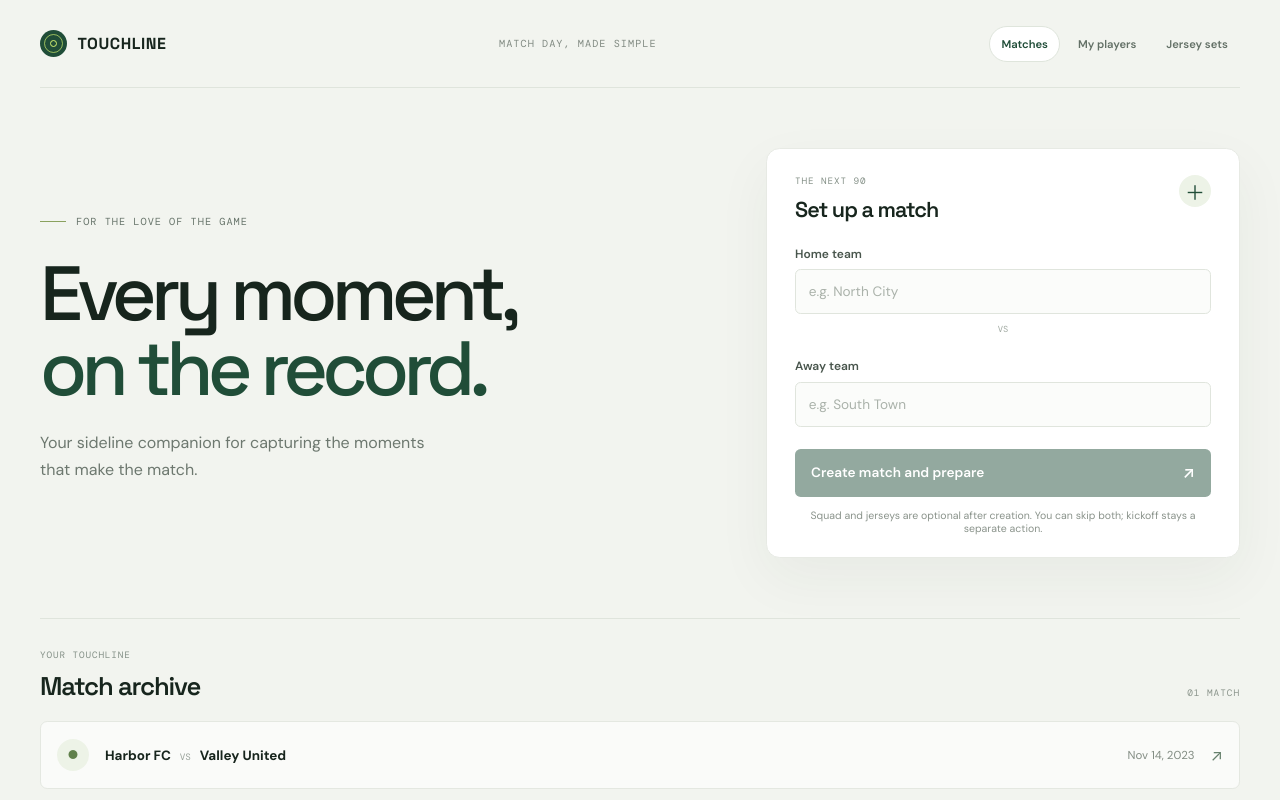
Test case: App › opens a literal IndexedDB record and writes edits back with its match fields intact
Click the button with aria-label "Open Harbor FC versus Valley United" at [73, 755], box [40,722,1240,789]
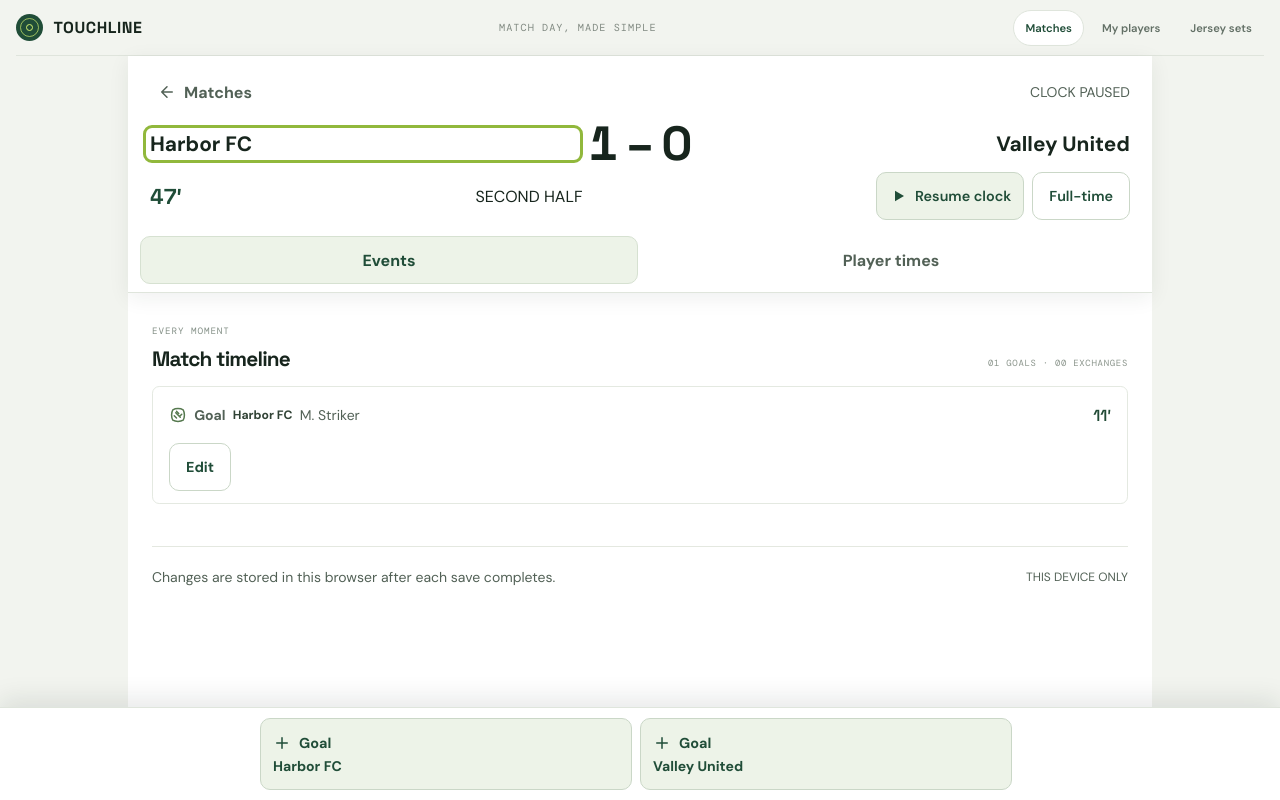
Expected: the 1st text "Harbor FC" is shown, [150,130,252,157]
Expected: the text with test id "home-score" reads "1", [588,113,618,174]
Expected: the text with test id "match-minute" reads "47′", [150,182,182,210]
Click the button "Edit" at [200, 467], box [169,443,231,491]
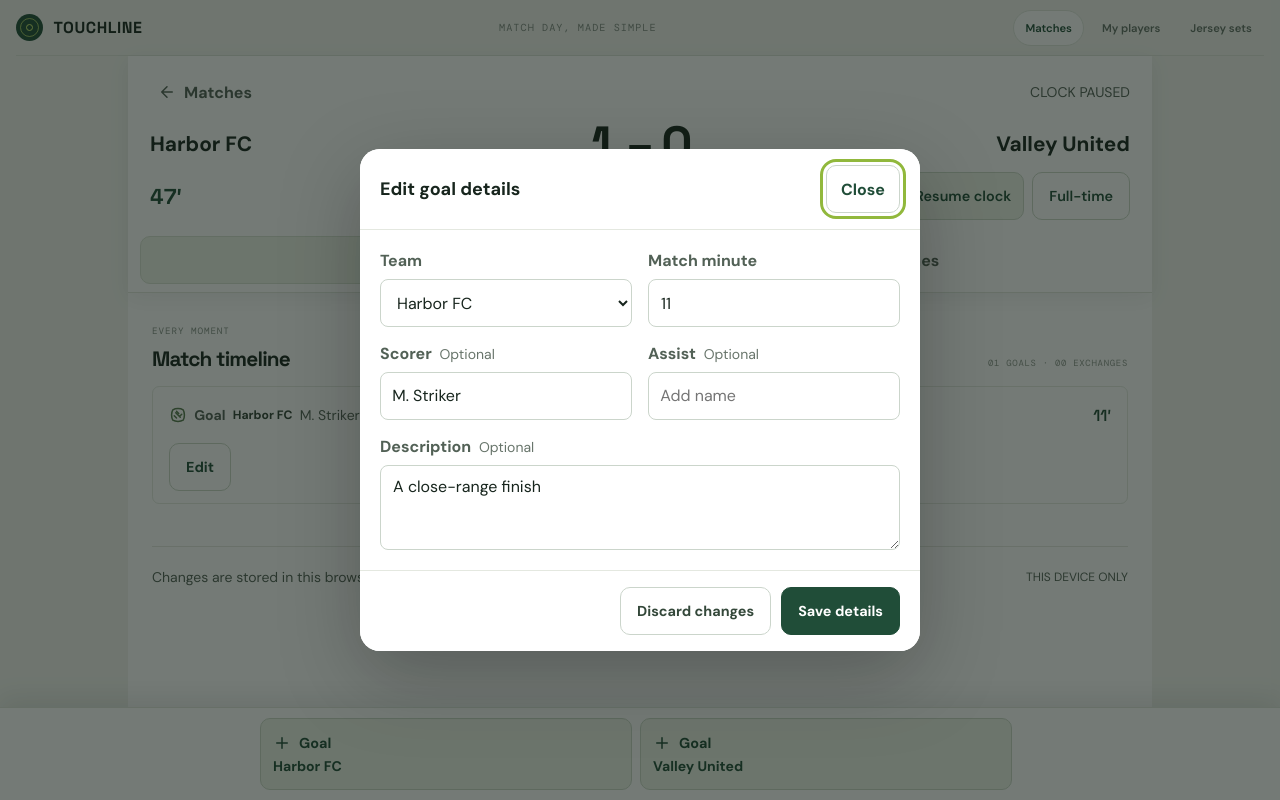
Expected: the field named "scorer" holds "M. Striker", [380,372,632,420]
Type "J. Midfielder" into the field labelled "Assist Optional" at [774, 396], box [648,372,900,420]
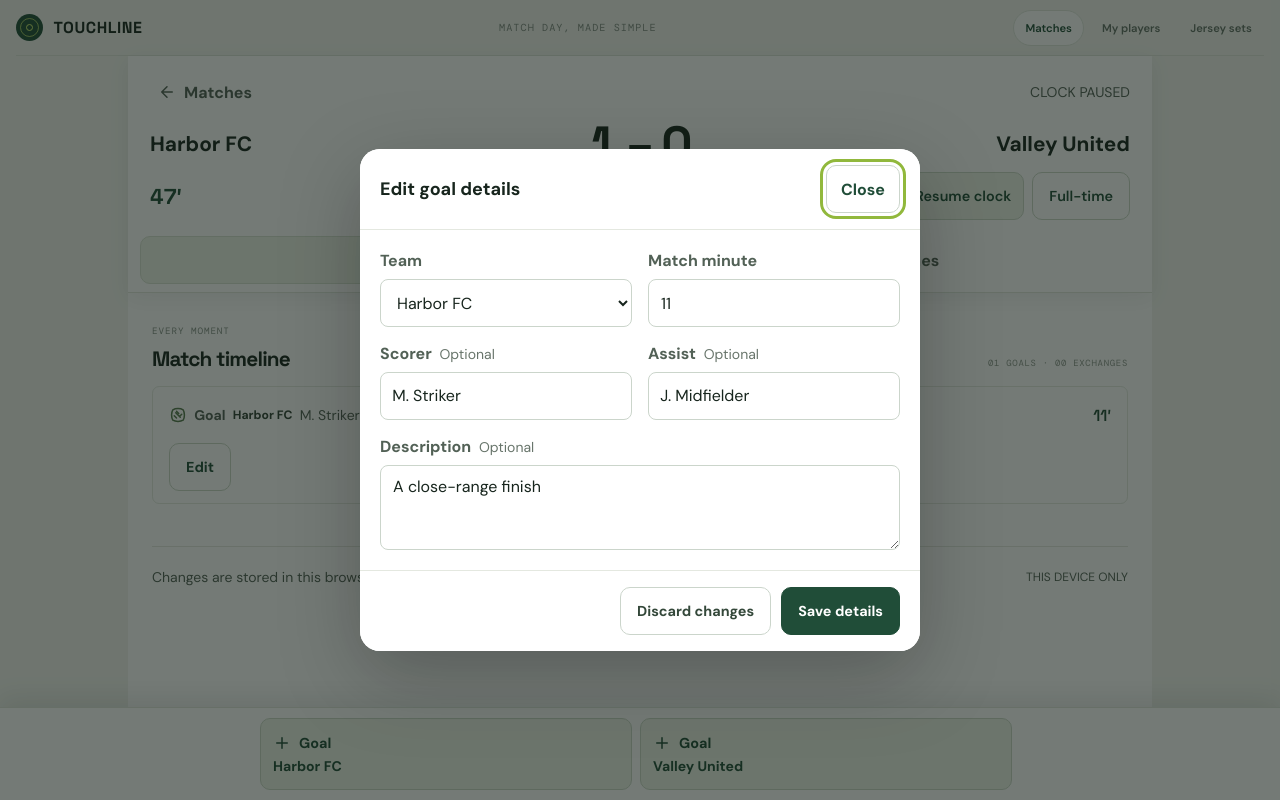
Replace the text in the text box labelled "Description Optional" with "A first-touch finish" at [640, 507], box [380,465,900,550]
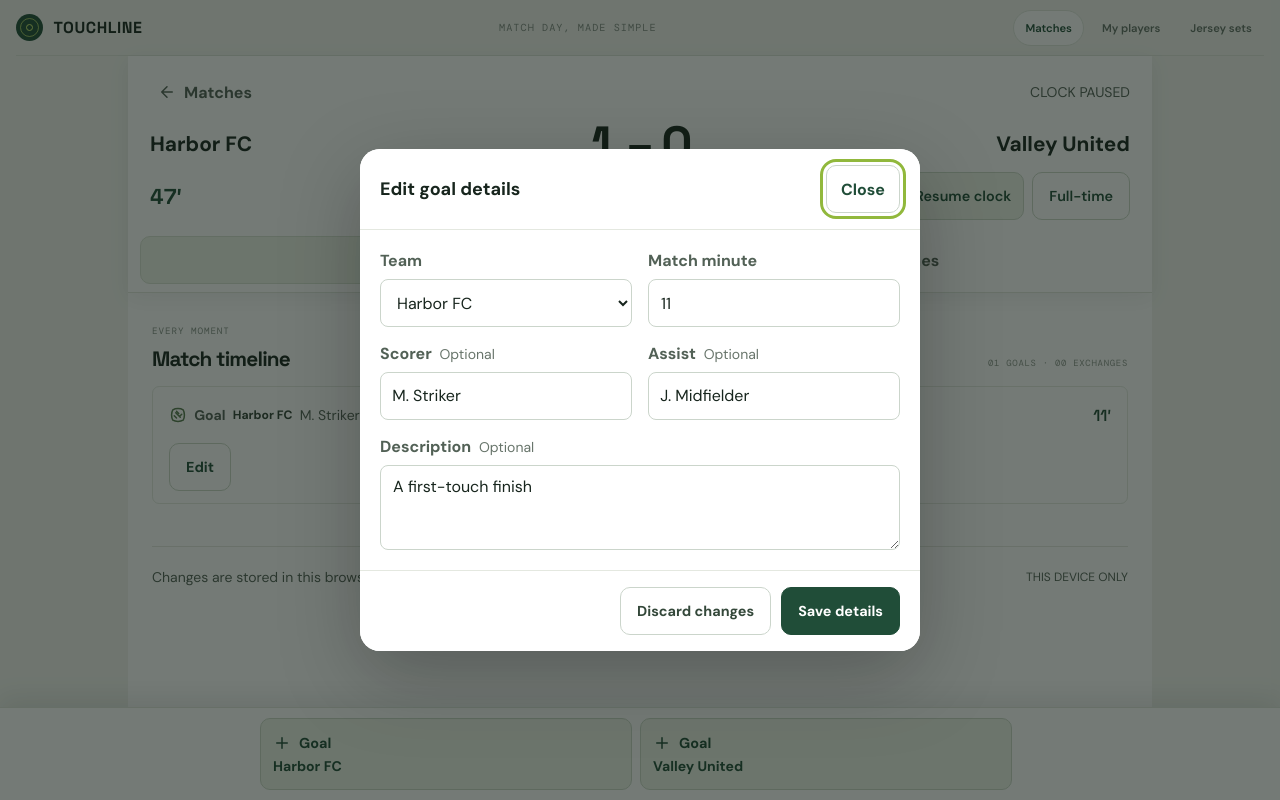
Submit the form with id "goal-edit-form", box [380,250,900,550]
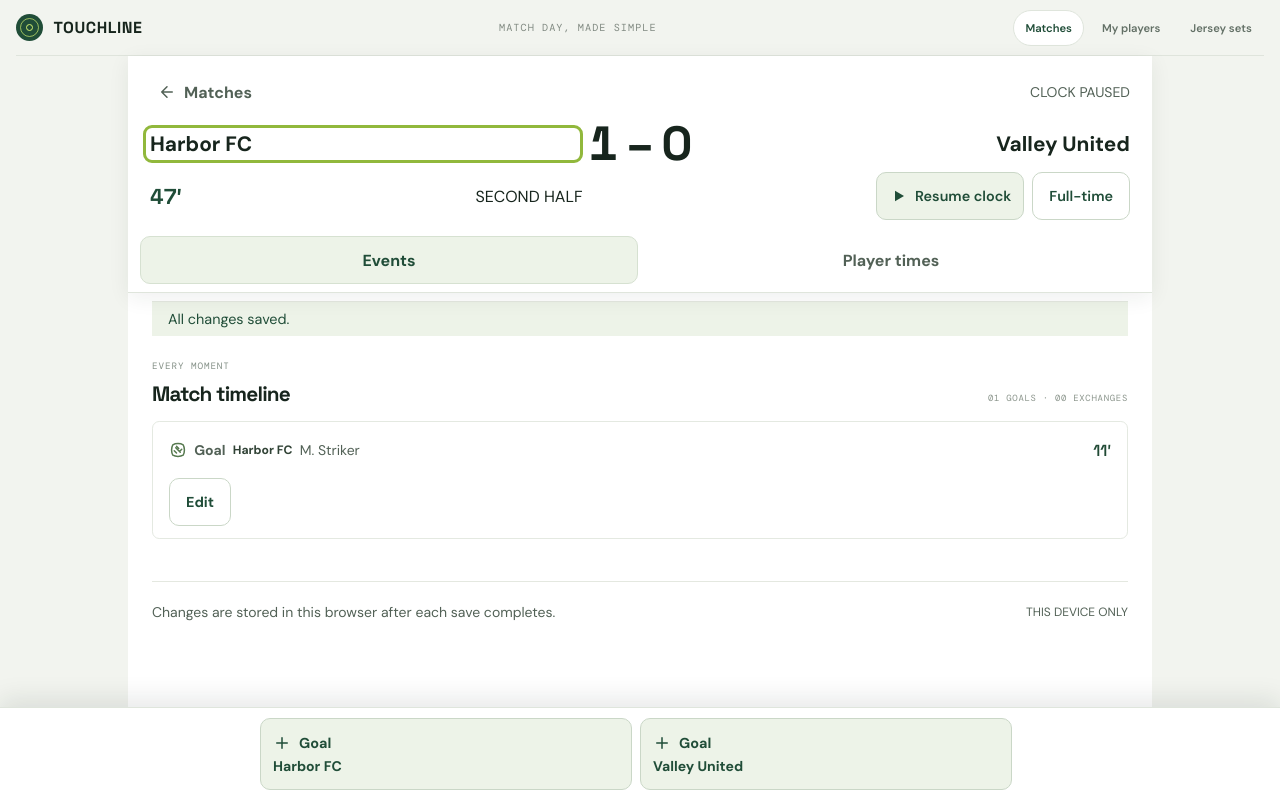
Expected: the message with class "save-feedback" reads "All changes saved.", [168,310,289,328]
